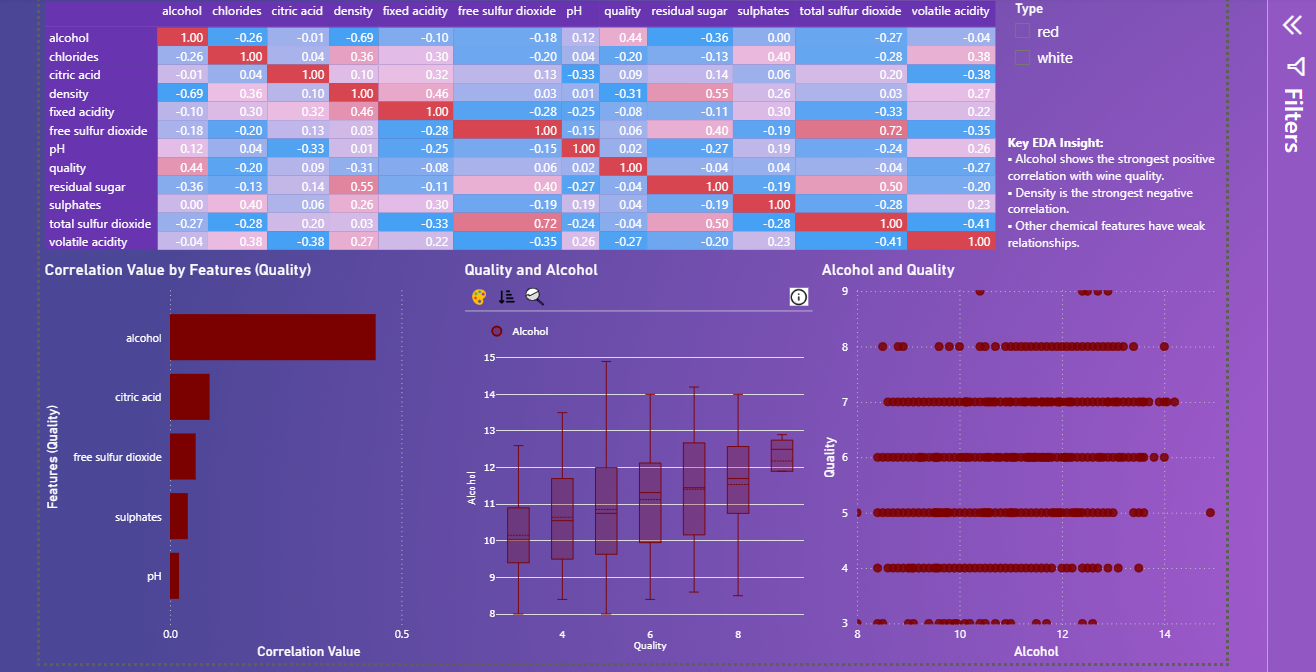

What the dashboard file says about the page in this screenshot:
{"tool":"powerbi","page":{"name":"Descriptive / EDA","canvas":[1280,720],"ordinal":1},"visuals":[{"type":"scatterChart","fields":{"X":["Wine.alcohol"],"Y":["Wine.quality"]},"box":[838.4,285.4,441.9,435],"z":0},{"type":"boxandwhiskerwithpoints6C29D629F202A5FF5B6B023486584FCA","fields":{"col_0":["Wine.quality"],"col_2":["Wine.alcohol"]},"box":[452.8,285.4,385.6,435],"z":1000},{"type":"pivotTable","fields":{"Values":["Sum(combined_correlation_matrix.alcohol)","Sum(combined_correlation_matrix.chlorides)","Sum(combined_correlation_matrix.citric acid)","Sum(combined_correlation_matrix.density)","Sum(combined_correlation_matrix.fixed acidity)","Sum(combined_correlation_matrix.free sulfur dioxide)","Sum(combined_correlation_matrix.pH)","Sum(combined_correlation_matrix.quality)","Sum(combined_correlation_matrix.residual sugar)","Sum(combined_correlation_matrix.sulphates)","Sum(combined_correlation_matrix.total sulfur dioxide)","Sum(combined_correlation_matrix.volatile acidity)"],"Rows":["combined_correlation_matrix.Column1"]},"box":[0,0,1041.5,285.4],"z":2000},{"type":"textbox","box":[1040.1,142.7,240.1,142.7],"z":3000},{"type":"barChart","fields":{"Category":["combined_correlation_with_quality.Column1"],"Y":["Sum(combined_correlation_with_quality.quality)"]},"box":[0,285.4,452.8,435],"z":4000},{"type":"slicer","fields":{"Values":["Wine.type"]},"box":[1040.1,0,240.1,142.7],"z":5000}]}

Visuals, with their boxes on the page's 1280x720 design canvas (x1, y1, x2, y2). These are canvas units, not pixel positions in the 1316x672 screenshot, which may show the page scaled, cropped or inside an application window:
scatterChart - Wine.alcohol x Wine.quality: (838, 285, 1280, 720)
boxandwhiskerwithpoints6C29D629F202A5FF5B6B023486584FCA - Wine.quality x Wine.alcohol: (453, 285, 838, 720)
pivotTable - Sum(combined_correlation_matrix.alcohol) x Sum(combined_correlation_matrix.chlorides): (0, 0, 1042, 285)
textbox: (1040, 143, 1280, 285)
barChart - combined_correlation_with_quality.Column1 x Sum(combined_correlation_with_quality.quality): (0, 285, 453, 720)
slicer - Wine.type: (1040, 0, 1280, 143)
